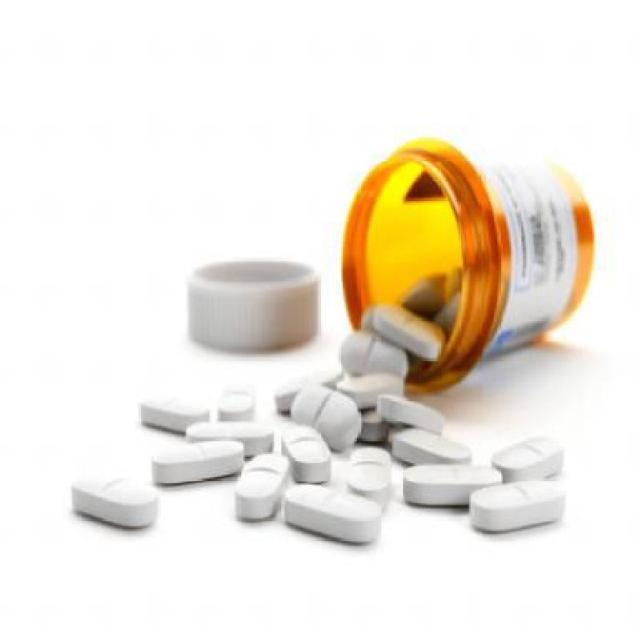B3: (63, 308, 569, 550)
